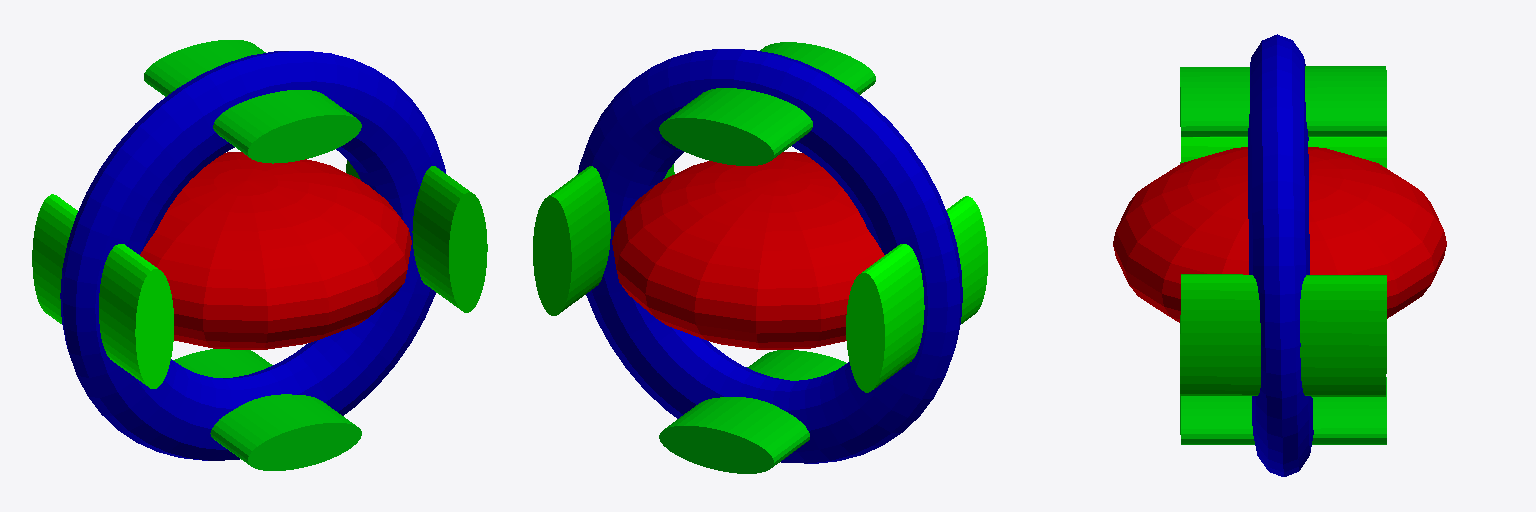
File: ring.obj
3 views of the same model, side by side, from view 1: azimuth 30°, elevation 25°; view 2: azimuth 150°, elevation 25°; view 3: azimuth 270°, elevation 25° (orthographic).
Visible parts, largest first — view 1: Torus, Sphere, Cylinder.001, Cylinder.004, Cylinder.002, Cylinder.003; view 2: Torus, Sphere, Cylinder.001, Cylinder.004, Cylinder.002, Cylinder.003; view 3: Sphere, Torus, Cylinder.003, Cylinder.004, Cylinder.002, Cylinder.001.
Boxes of the visible parts, x1,y1,x2,y2 form: Torus: [60, 51, 445, 460]; Sphere: [140, 152, 411, 349]; Cylinder.001: [32, 194, 173, 388]; Cylinder.004: [144, 40, 361, 163]; Cylinder.002: [173, 349, 361, 470]; Cylinder.003: [346, 160, 487, 312]; Torus: [577, 49, 962, 463]; Sphere: [612, 152, 884, 349]; Cylinder.001: [846, 196, 987, 392]; Cylinder.004: [659, 42, 875, 165]; Cylinder.002: [659, 350, 846, 473]; Cylinder.003: [533, 164, 674, 315]; Sphere: [1113, 147, 1446, 322]; Torus: [1248, 34, 1313, 476]; Cylinder.003: [1180, 274, 1386, 396]; Cylinder.004: [1180, 66, 1386, 136]; Cylinder.002: [1180, 377, 1386, 444]; Cylinder.001: [1180, 137, 1386, 167].
Size of the model in its own units: 3.66 by 3.64 by 2.75.